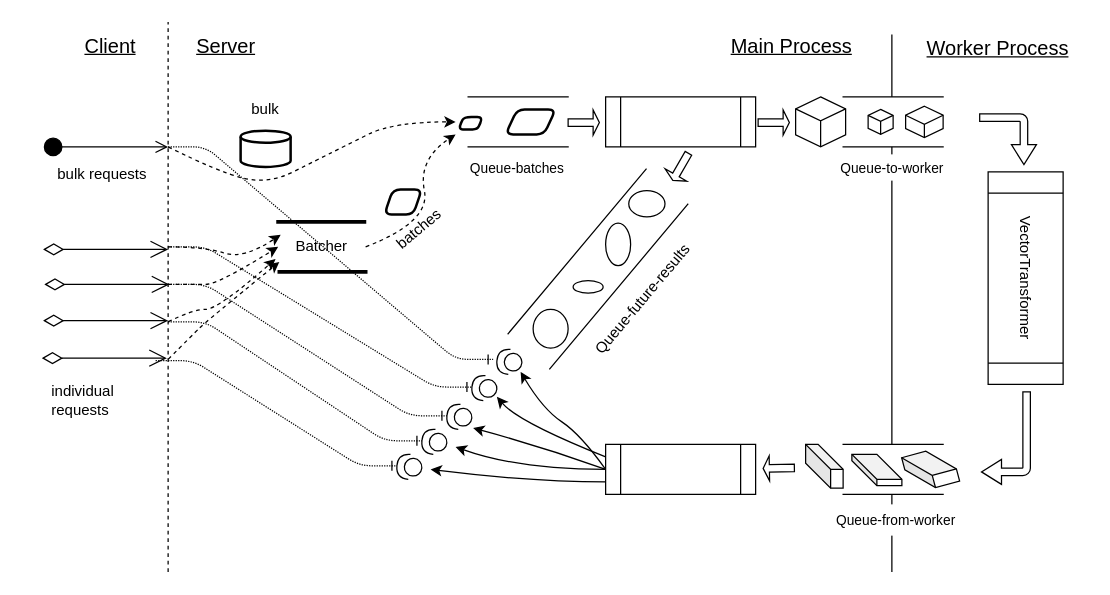
This 1110x595 diagram has some shape labels left out. Each missing label, with the centre of its shape:
Postprocessor: [680,468]
Preprocessor: [680,121]
